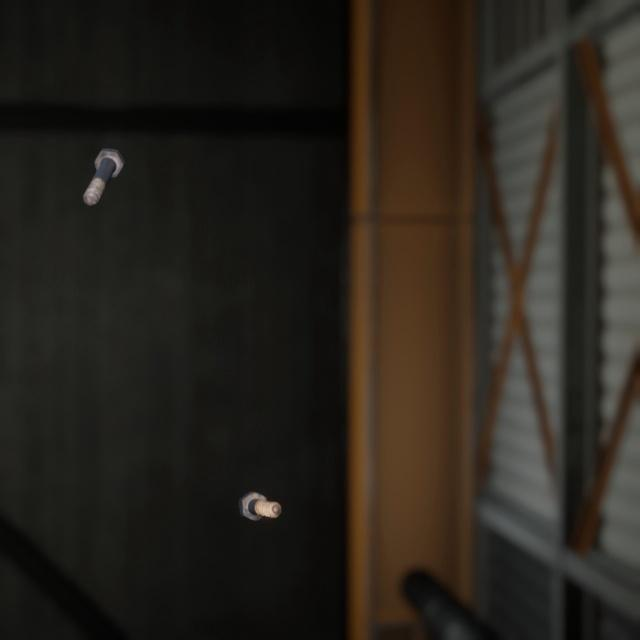bolt: (78, 130, 129, 196), (234, 465, 285, 503)
